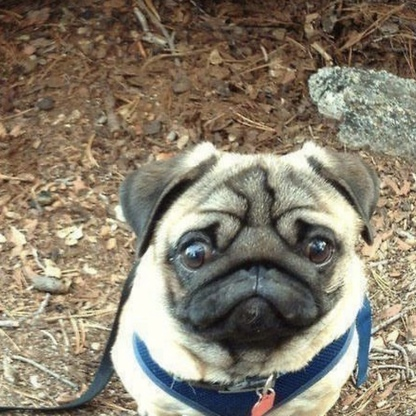Pug: (98, 132, 388, 416)
